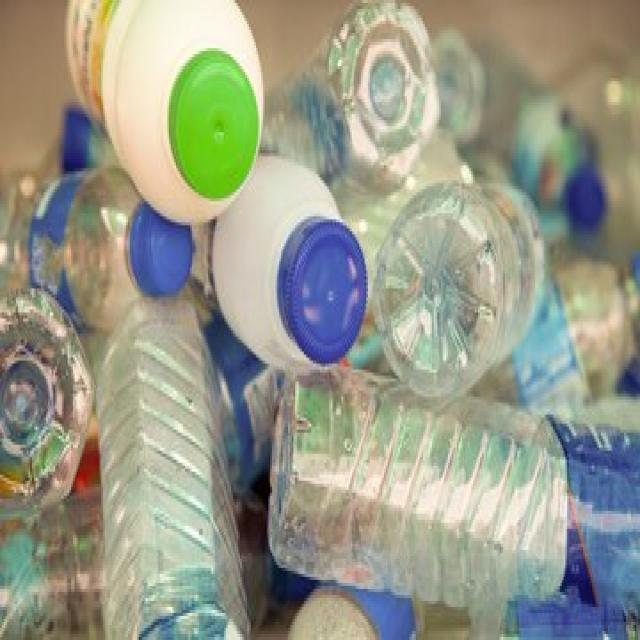plastic_bottle: (255, 346, 636, 627), (93, 279, 251, 637), (366, 148, 561, 433), (0, 152, 214, 303)
